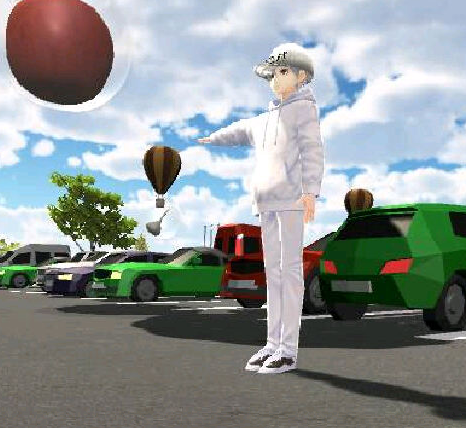singleP_left: (191, 38, 326, 377)
